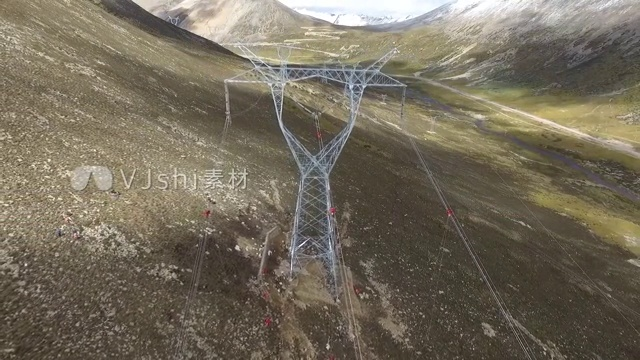tower_body: (221, 35, 411, 296)
tower_foot: (290, 220, 345, 293)
tower_head: (225, 39, 406, 175)
